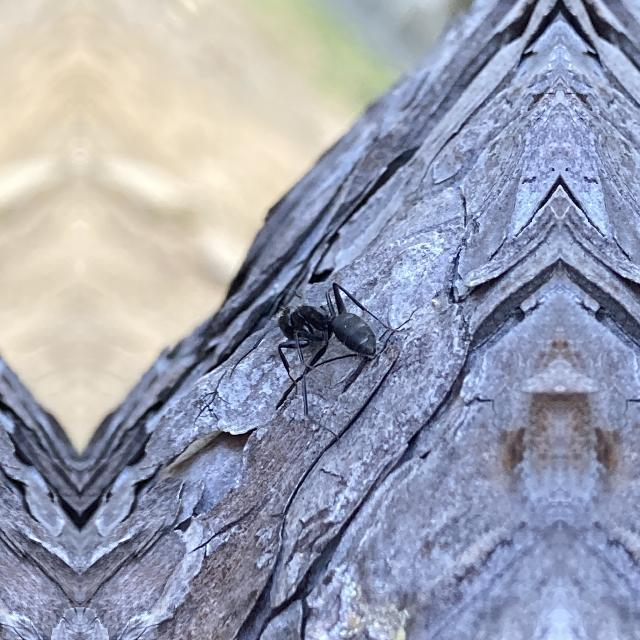Camponotus: (256, 269, 394, 383)
